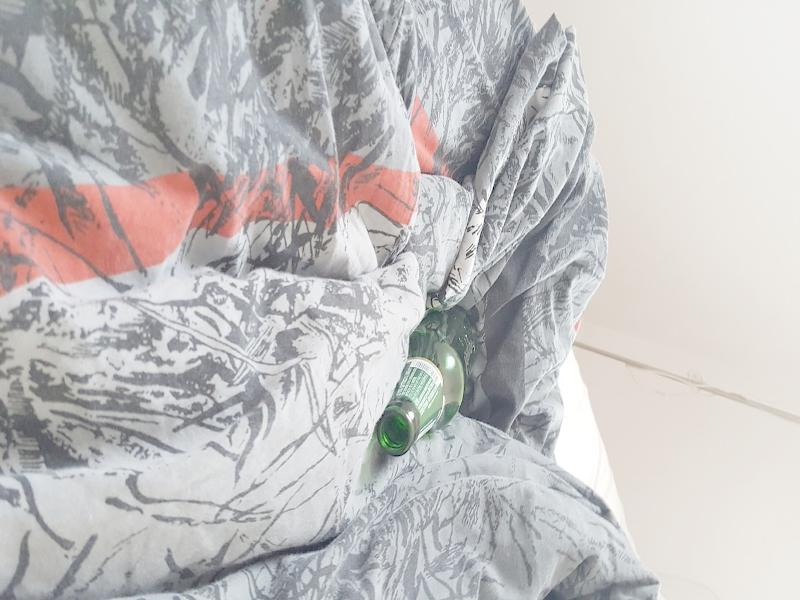Beer: (375, 302, 477, 457)
